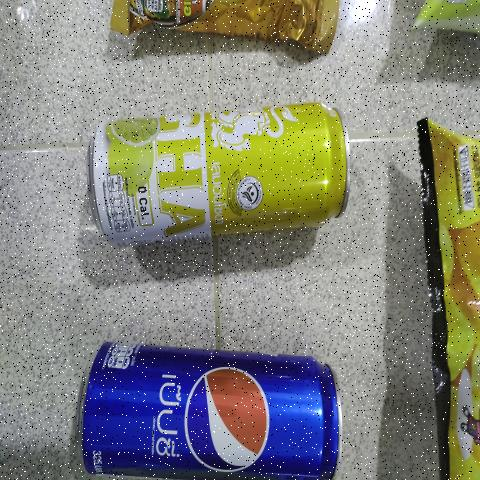pepsi_blue: (66, 338, 344, 480)
singha_yellow: (83, 98, 357, 244)
